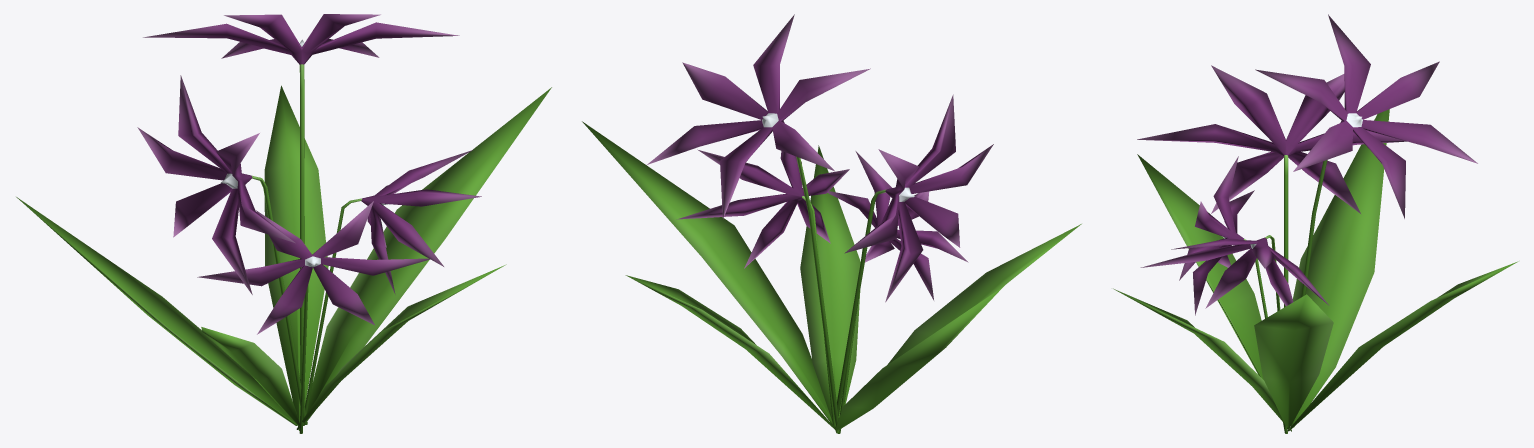
The picture shows the model from 3 angles, left to right: view 1: azimuth 30°, elevation 25°; view 2: azimuth 150°, elevation 25°; view 3: azimuth 270°, elevation 25°; orthographic projection. The views are drawn at different scales.
Visible parts, largest first — view 1: fp25; view 2: fp25; view 3: fp25.
Part boxes in pixels (x1,y1,x2,y2): fp25: [16, 14, 551, 433]; fp25: [582, 14, 1081, 433]; fp25: [1113, 14, 1518, 433].
Bounding box in the file's own units: 61.89 × 49.85 × 46.95.
